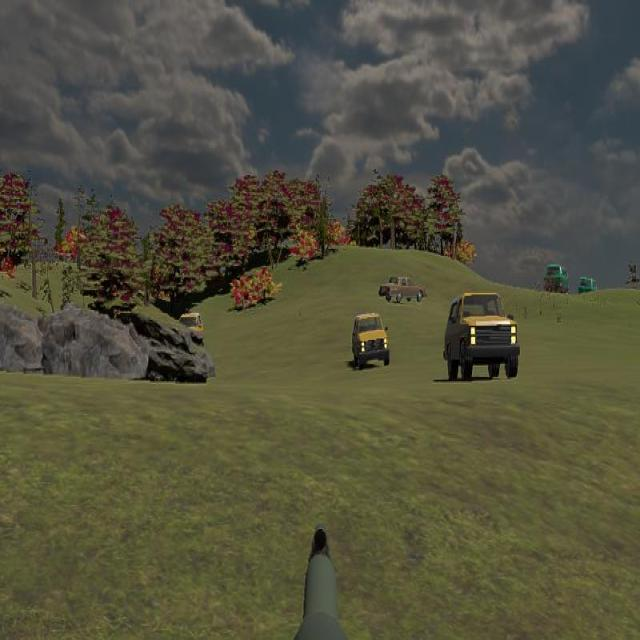car: (443, 290, 520, 382), (351, 311, 390, 370), (378, 273, 427, 304)
